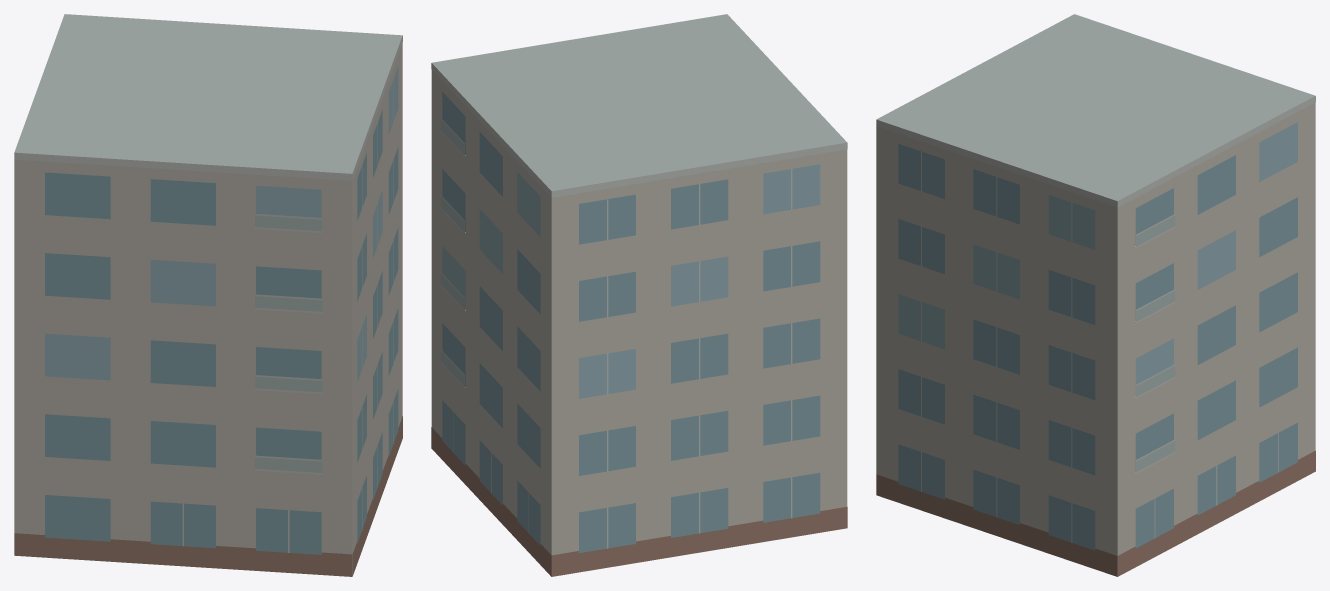
Rendered from survey-upis-32712544.glb.
3 renders of one model, left to right at view 1: azimuth 30°, elevation 25°; view 2: azimuth 150°, elevation 25°; view 3: azimuth 270°, elevation 25°, orthographic. The views are drawn at different scales.
Visible parts, largest first — view 1: survey-upis-32712544.tmp; view 2: survey-upis-32712544.tmp; view 3: survey-upis-32712544.tmp.
Part boxes in pixels (bbox=[...]): survey-upis-32712544.tmp: bbox=[14, 14, 402, 576]; survey-upis-32712544.tmp: bbox=[431, 14, 847, 576]; survey-upis-32712544.tmp: bbox=[876, 14, 1315, 576].
Bounding box in the file's own units: 15.29 × 14.3 × 15.17.
